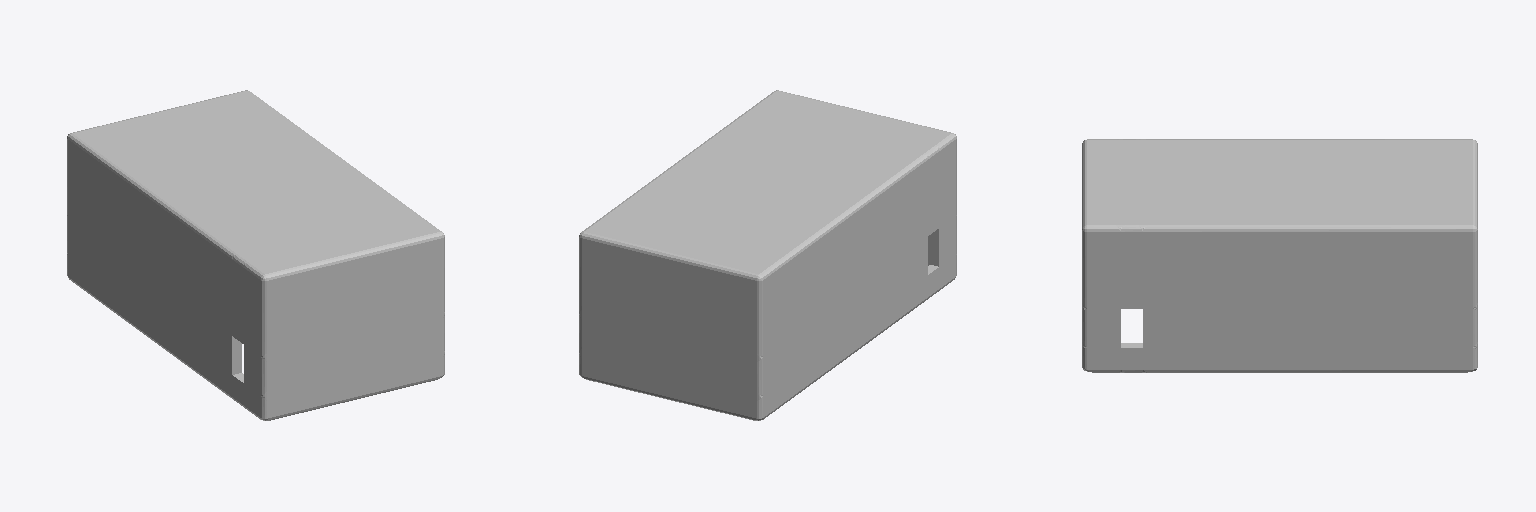
Rendered from Bunker.obj.
3 renders of one model, left to right at view 1: azimuth 30°, elevation 25°; view 2: azimuth 150°, elevation 25°; view 3: azimuth 270°, elevation 25°, orthographic.
Visible parts, largest first — view 1: Bunker_Cube.120; view 2: Bunker_Cube.120; view 3: Bunker_Cube.120.
Boxes of the visible parts, box(x1,y1,x2,y2) form: Bunker_Cube.120: box(67, 90, 444, 420); Bunker_Cube.120: box(579, 90, 956, 420); Bunker_Cube.120: box(1082, 139, 1477, 372).
Bounding box in the file's own units: 10.4 × 7.95 × 19.4.